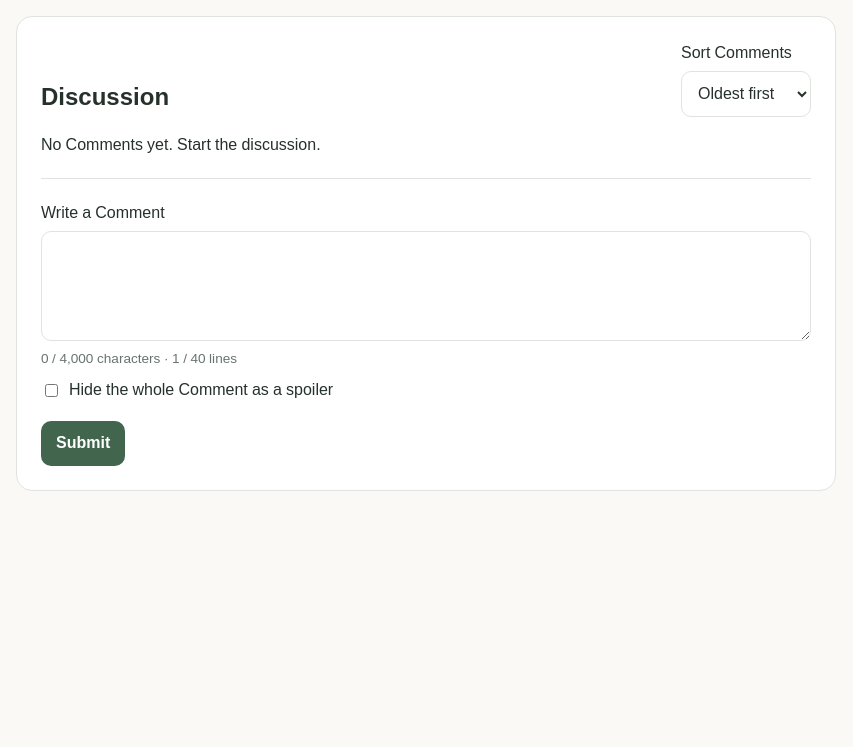
it: DiscussionPanel capabilities and accessibility › creates only from the server response, suppresses duplicates, and changes keys with content
Type "ไทย🙂" into the text box labelled "Write a Comment" at (426, 286), box [41,231,811,341]
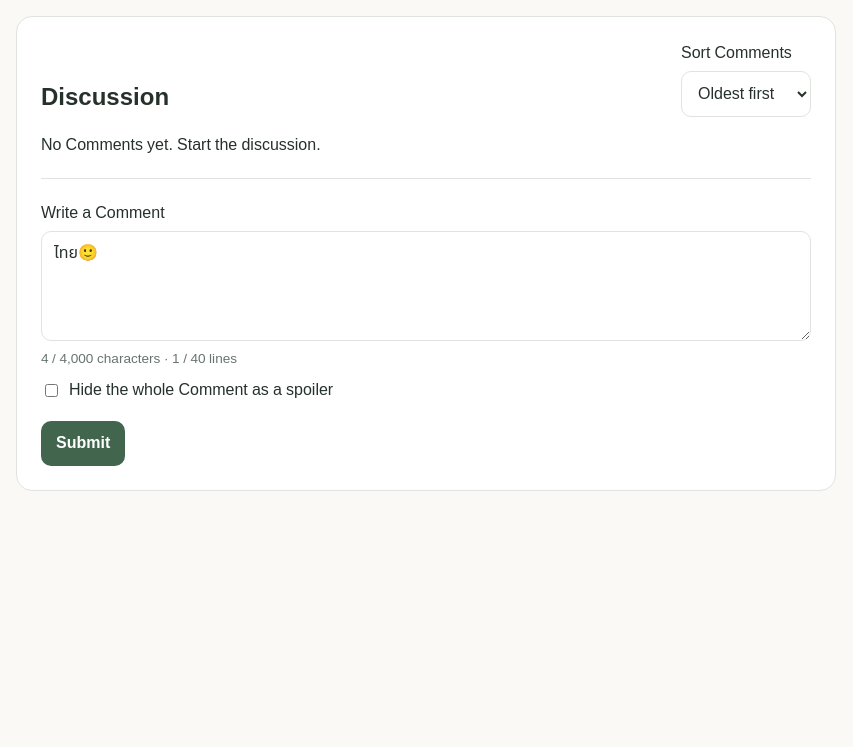
Click the button "Submit" at (83, 444), box [41,421,125,466]
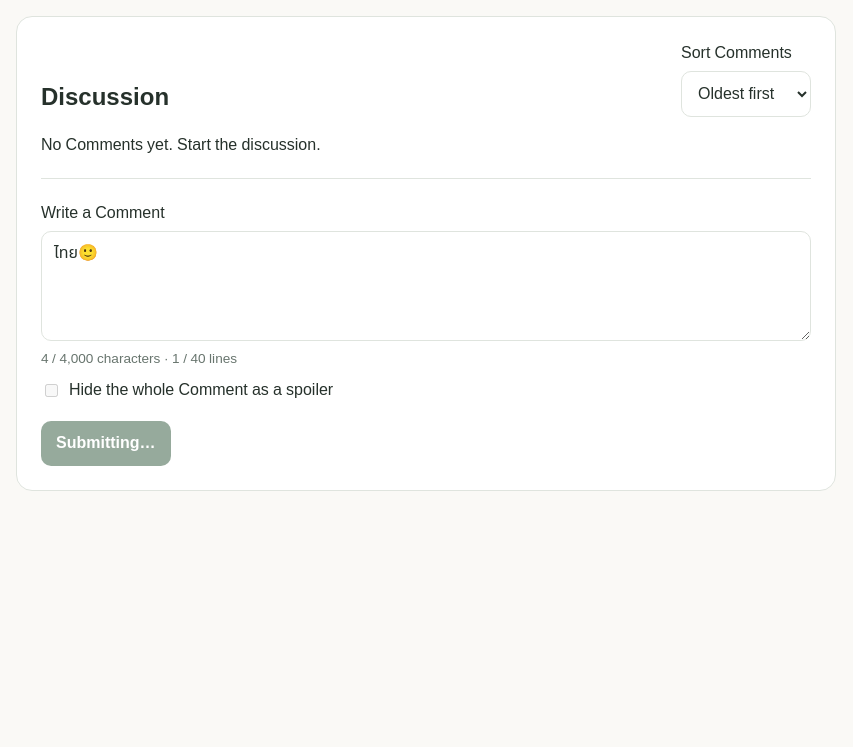
Click the button "Submitting…" at (106, 444), box [41,421,170,466]
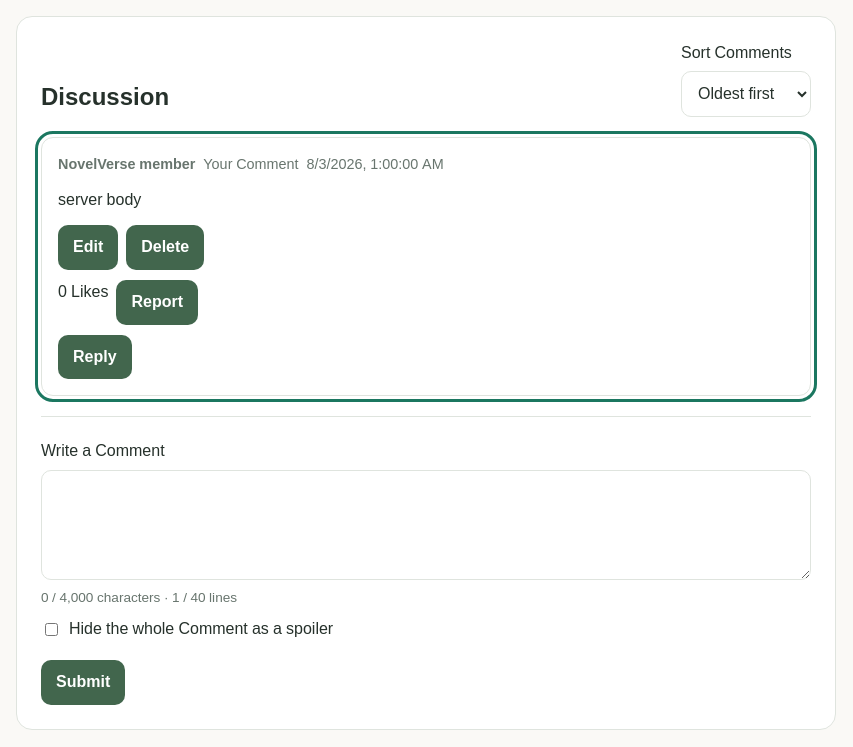
Check: the text "server body" is shown, box [58,188,141,212]
